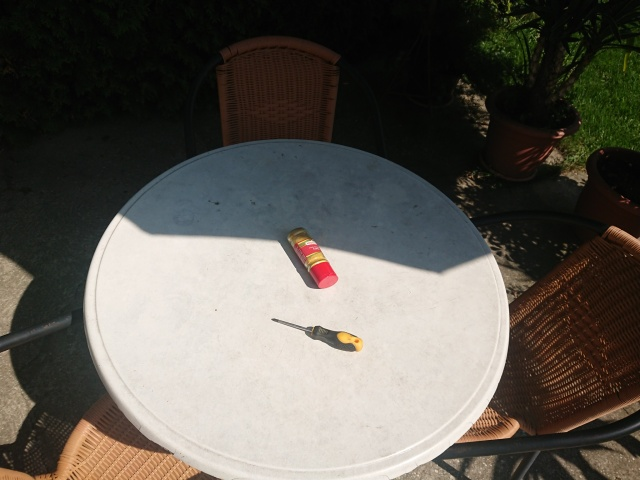Kotanyi Curry Spices Mix 70g: (284, 226, 340, 291)
